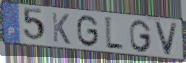5: (22, 7, 47, 45)
G: (128, 19, 153, 54), (76, 15, 100, 49)
K: (51, 11, 72, 46)
L: (103, 15, 124, 53)
V: (154, 20, 179, 57)
